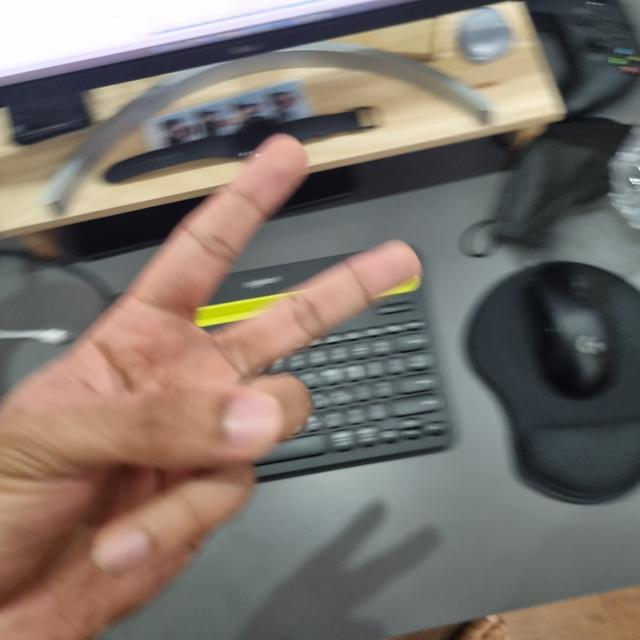Scissors: (0, 141, 415, 639)
